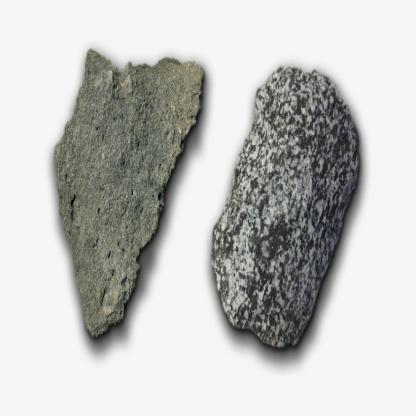Igneous_Diorite: (38, 42, 208, 344), (212, 60, 361, 358)
